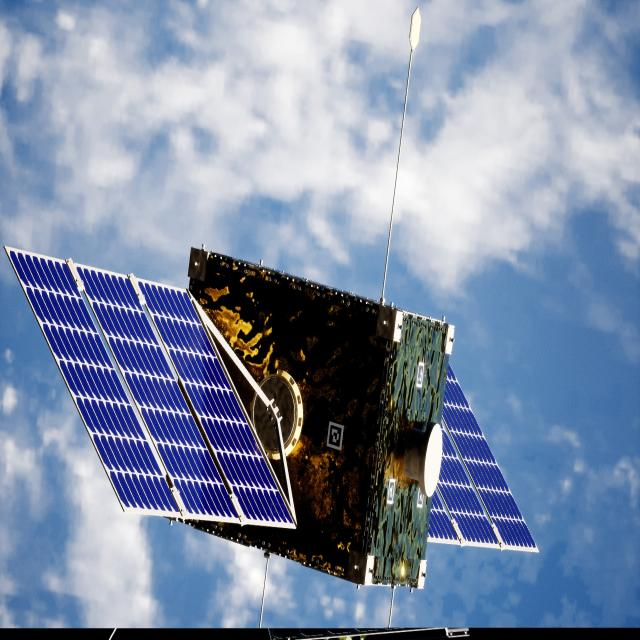medium_debris: (5, 248, 535, 590)
